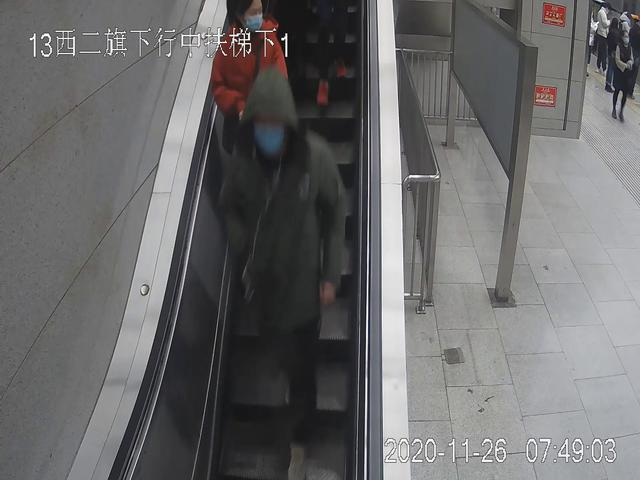person: (221, 72, 346, 473), (216, 4, 294, 282), (611, 29, 639, 120), (594, 3, 618, 73)
